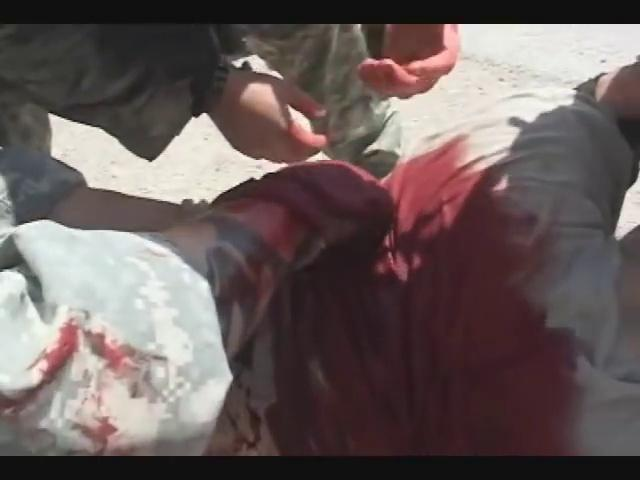Fire: (166, 137, 577, 456)
